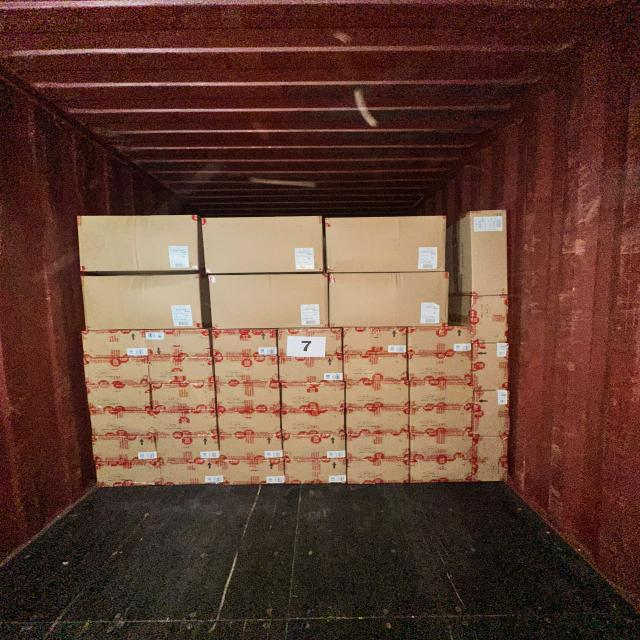Carton: (79, 218, 202, 278), (205, 219, 327, 279), (81, 272, 205, 331), (325, 216, 449, 274), (327, 271, 450, 328), (210, 274, 330, 332), (464, 207, 511, 296), (408, 431, 479, 462), (81, 356, 152, 387), (467, 294, 511, 344), (407, 379, 477, 409), (407, 352, 474, 383), (80, 328, 149, 358), (144, 328, 213, 358), (146, 356, 217, 385), (341, 326, 409, 356), (211, 328, 279, 358), (276, 355, 344, 385), (95, 460, 163, 490), (84, 383, 154, 412), (90, 435, 160, 464), (215, 382, 282, 412), (344, 380, 411, 410), (277, 328, 344, 358), (148, 382, 217, 411), (470, 342, 510, 392), (283, 456, 349, 486), (406, 326, 474, 355), (220, 457, 288, 486), (150, 410, 220, 438), (88, 410, 158, 438), (213, 356, 280, 385), (158, 458, 225, 487), (408, 407, 477, 435), (347, 432, 411, 462), (280, 381, 346, 410), (342, 353, 408, 382), (280, 408, 348, 436), (154, 434, 222, 462), (216, 434, 286, 461), (345, 457, 412, 485), (280, 433, 346, 461), (215, 409, 283, 436), (343, 408, 412, 434), (472, 434, 509, 482), (472, 389, 508, 436), (408, 459, 475, 484)
